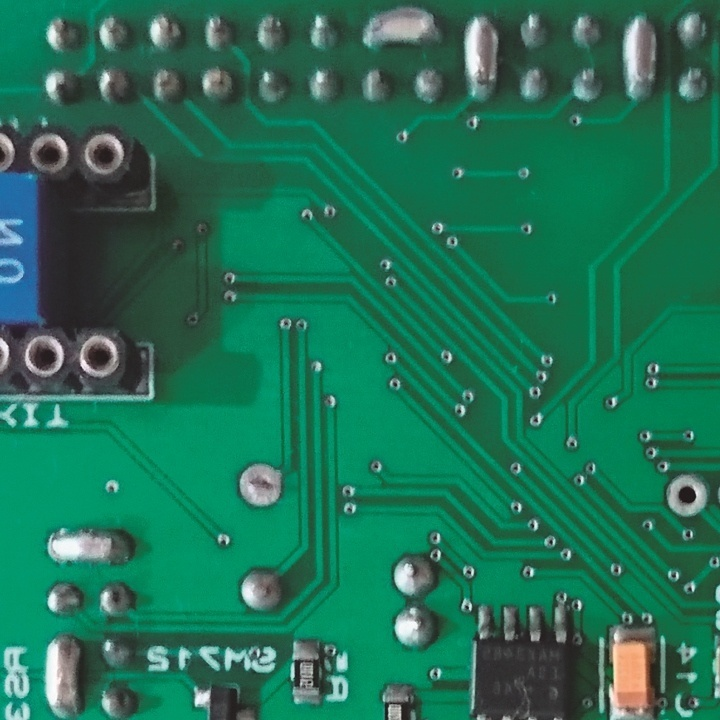F: (234, 460, 284, 514), (663, 473, 713, 521)
P: (41, 524, 141, 572), (359, 5, 444, 58), (39, 632, 87, 720), (460, 9, 502, 108), (618, 9, 658, 112)
